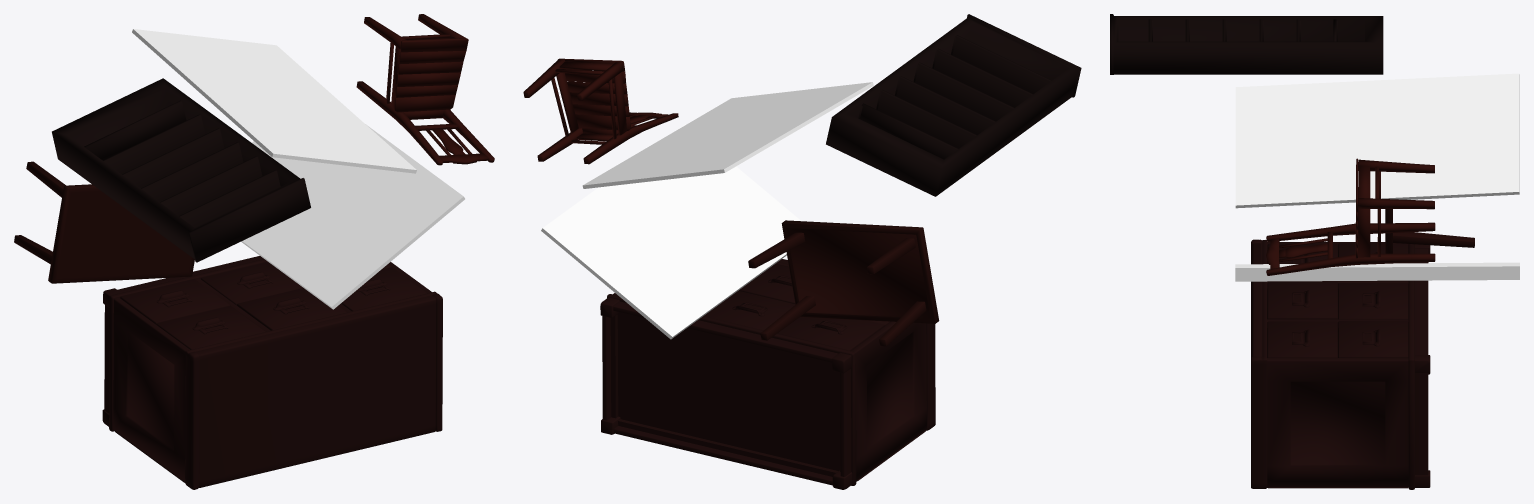
3 renders of one model, left to right at view 1: azimuth 30°, elevation 25°; view 2: azimuth 150°, elevation 25°; view 3: azimuth 270°, elevation 25°, orthographic. The views are drawn at different scales.
Parts seen in each view (by area): view 1: diffuse_cabinet_01, diffuse_shelf_03, glass_door_01, glass_door_02, diffuse_table_02, diffuse_chair_04; view 2: diffuse_cabinet_01, diffuse_shelf_03, glass_door_01, diffuse_table_02, glass_door_02, diffuse_chair_04; view 3: diffuse_cabinet_01, glass_door_02, diffuse_shelf_03, diffuse_chair_04, glass_door_01, diffuse_table_02.
Part boxes in pixels (<box>): diffuse_cabinet_01: <box>102,256,442,489</box>; diffuse_shelf_03: <box>52,78,310,262</box>; glass_door_01: <box>241,124,464,309</box>; glass_door_02: <box>132,29,416,173</box>; diffuse_table_02: <box>14,161,194,283</box>; diffuse_chair_04: <box>356,14,494,165</box>; diffuse_cabinet_01: <box>600,259,935,489</box>; diffuse_shelf_03: <box>826,14,1081,196</box>; glass_door_01: <box>541,124,801,339</box>; diffuse_table_02: <box>748,220,939,346</box>; glass_door_02: <box>582,82,873,188</box>; diffuse_chair_04: <box>523,58,678,164</box>; diffuse_cabinet_01: <box>1251,239,1430,489</box>; glass_door_02: <box>1235,73,1519,208</box>; diffuse_shelf_03: <box>1110,14,1383,74</box>; diffuse_chair_04: <box>1266,158,1435,275</box>; glass_door_01: <box>1235,262,1519,281</box>; diffuse_table_02: <box>1385,209,1474,253</box>.
Bounding box in the file's own units: 240 × 202 × 216.
